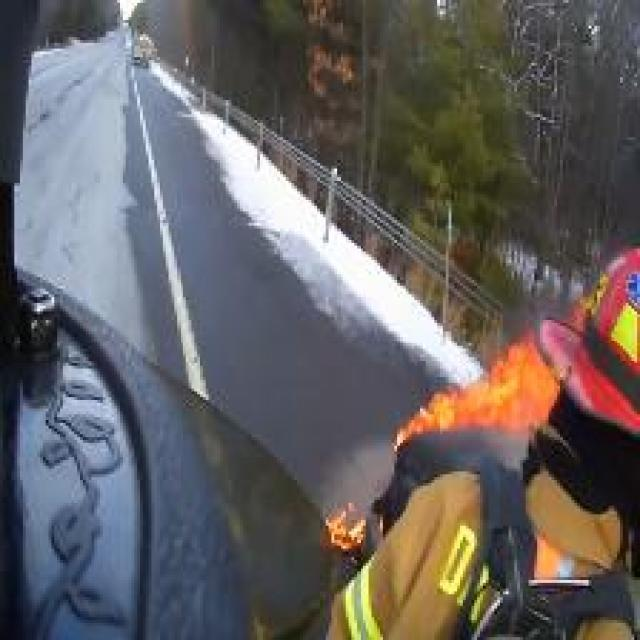Fire: (388, 297, 592, 454), (328, 498, 374, 553)
